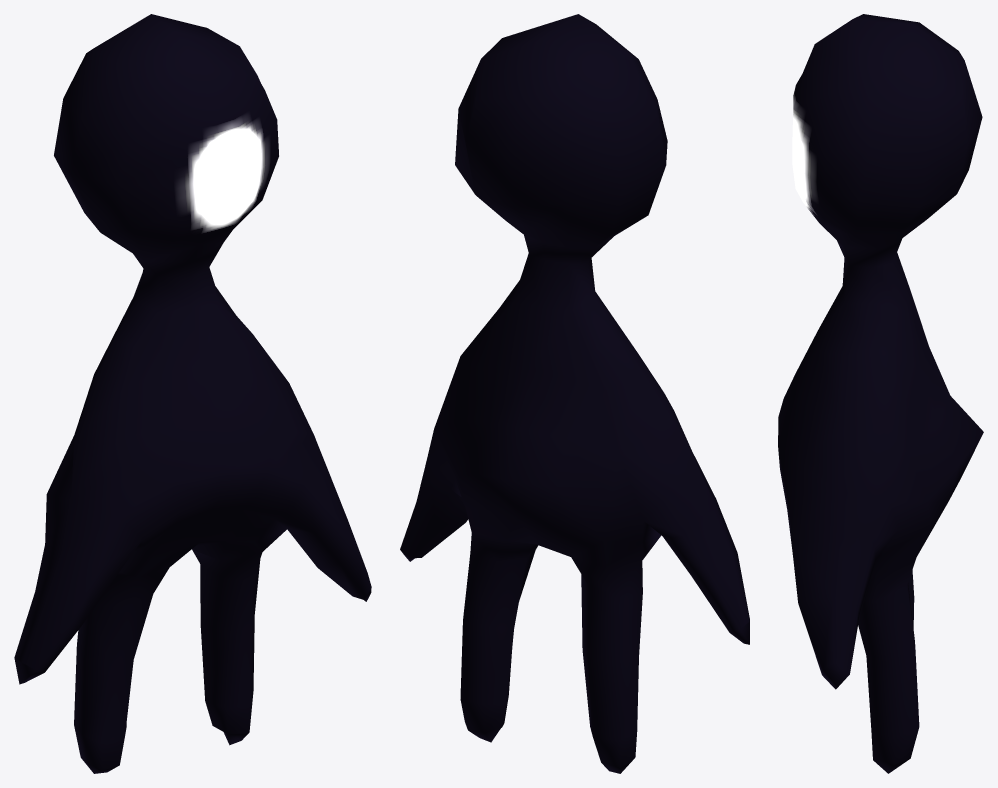
File: Game2-lilGUY-still.fbx
The picture shows the model from 3 angles, left to right: view 1: azimuth 30°, elevation 25°; view 2: azimuth 150°, elevation 25°; view 3: azimuth 270°, elevation 25°; orthographic projection. The views are drawn at different scales.
Visible parts, largest first — view 1: lil_guy_retopo; view 2: lil_guy_retopo; view 3: lil_guy_retopo.
Part boxes in pixels (x1,y1,x2,y2): lil_guy_retopo: (14,14,371,773); lil_guy_retopo: (400,14,749,773); lil_guy_retopo: (778,14,983,773).
Size of the model in its own units: 43.5 by 87.81 by 22.83.
